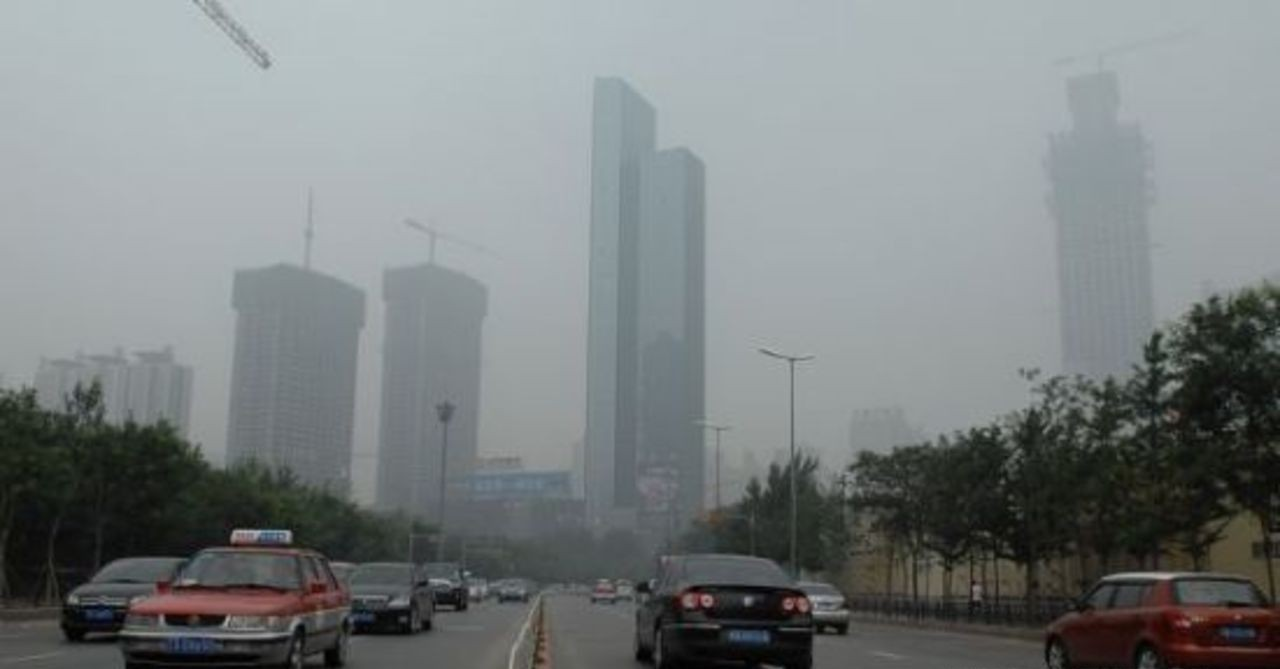car: (127, 540, 353, 668), (1039, 570, 1277, 667), (634, 553, 816, 668), (63, 558, 182, 639), (344, 561, 437, 635), (795, 579, 852, 635), (420, 557, 469, 606), (587, 578, 620, 604), (496, 578, 530, 603)
